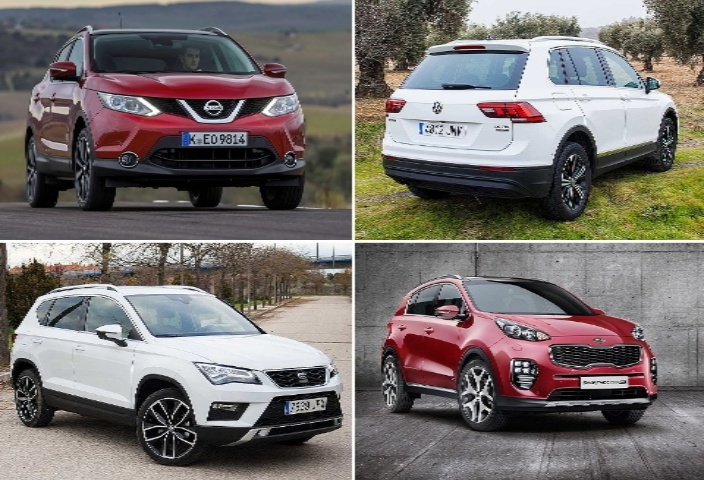camper: (5, 270, 342, 461), (30, 16, 316, 217), (380, 30, 680, 219), (379, 264, 695, 434)
